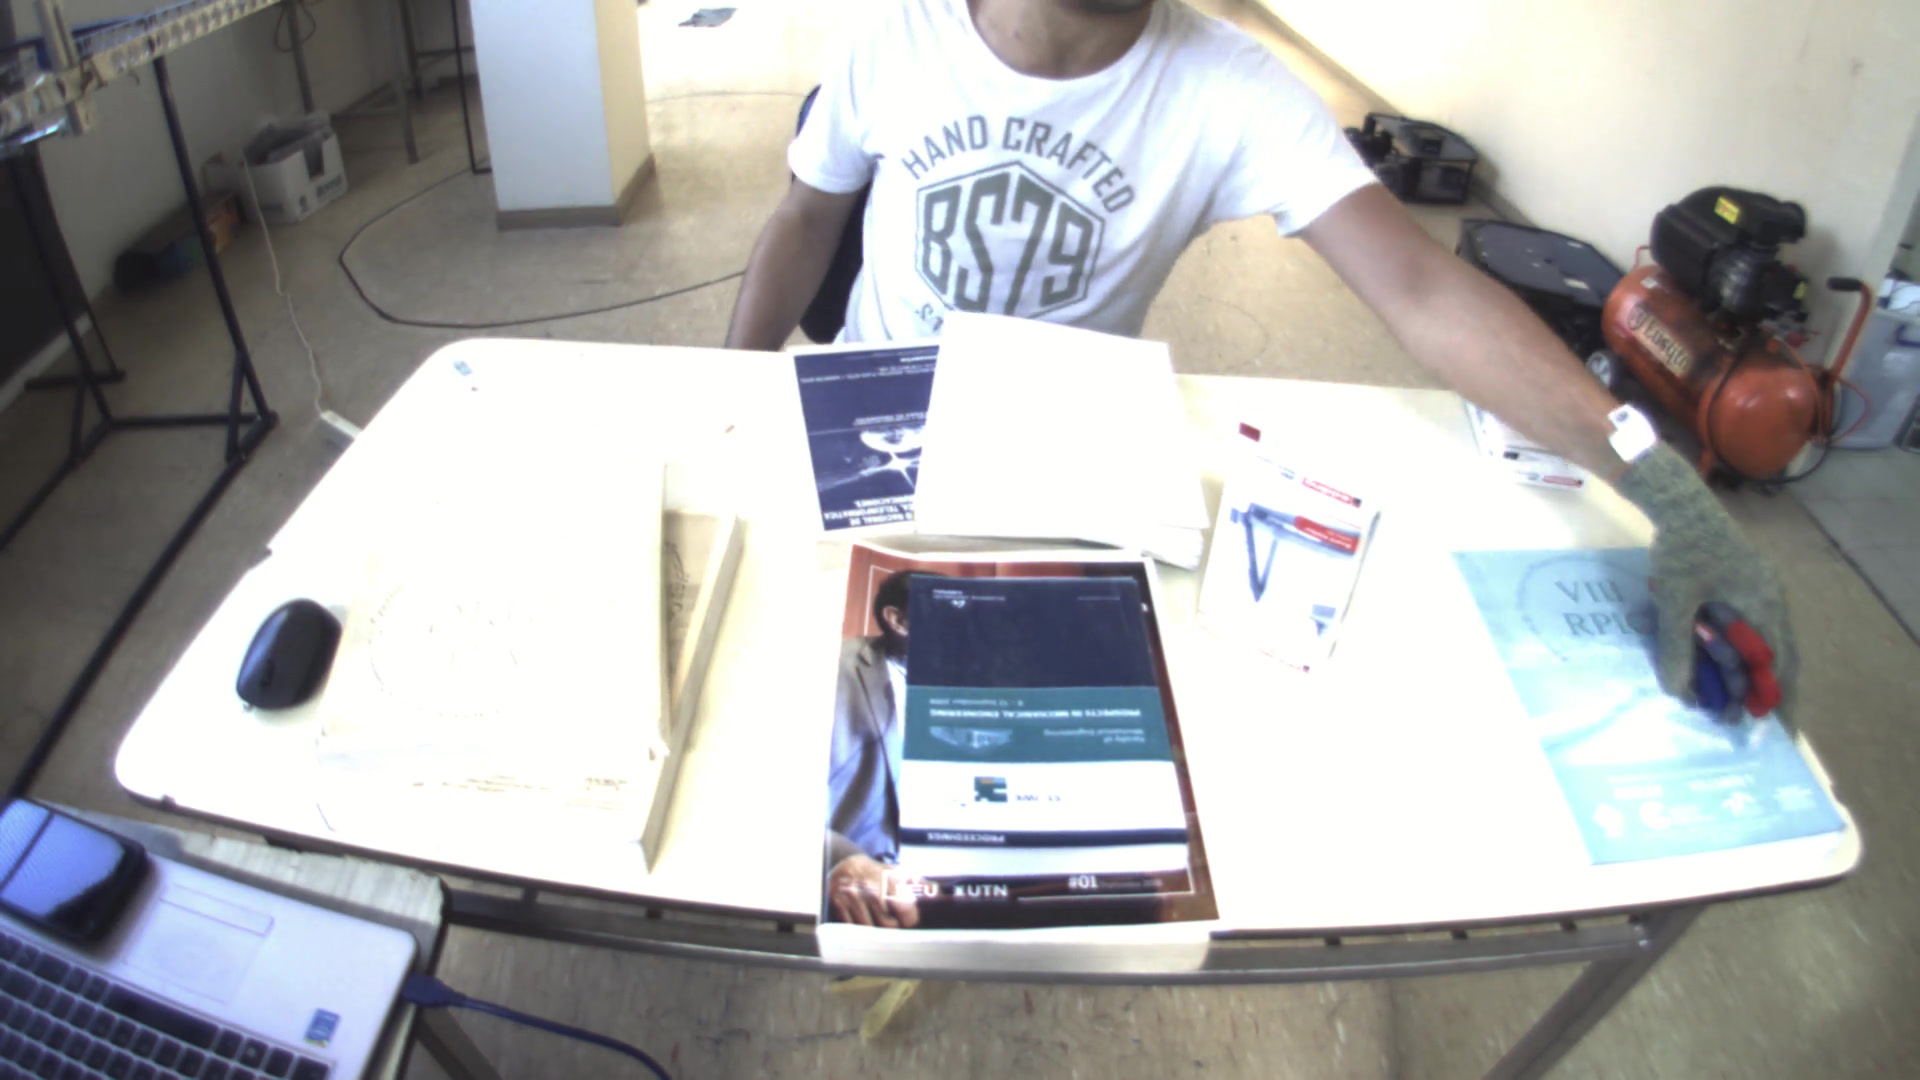hand: (1611, 444, 1783, 709)
